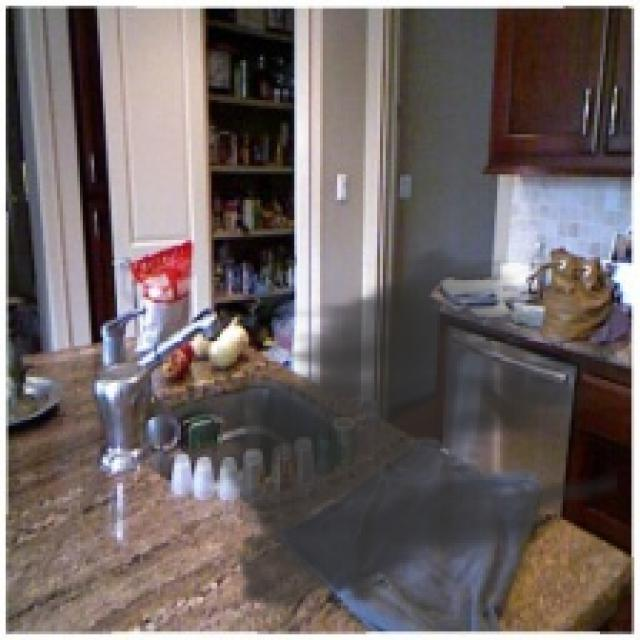smoke: (197, 237, 617, 632)
